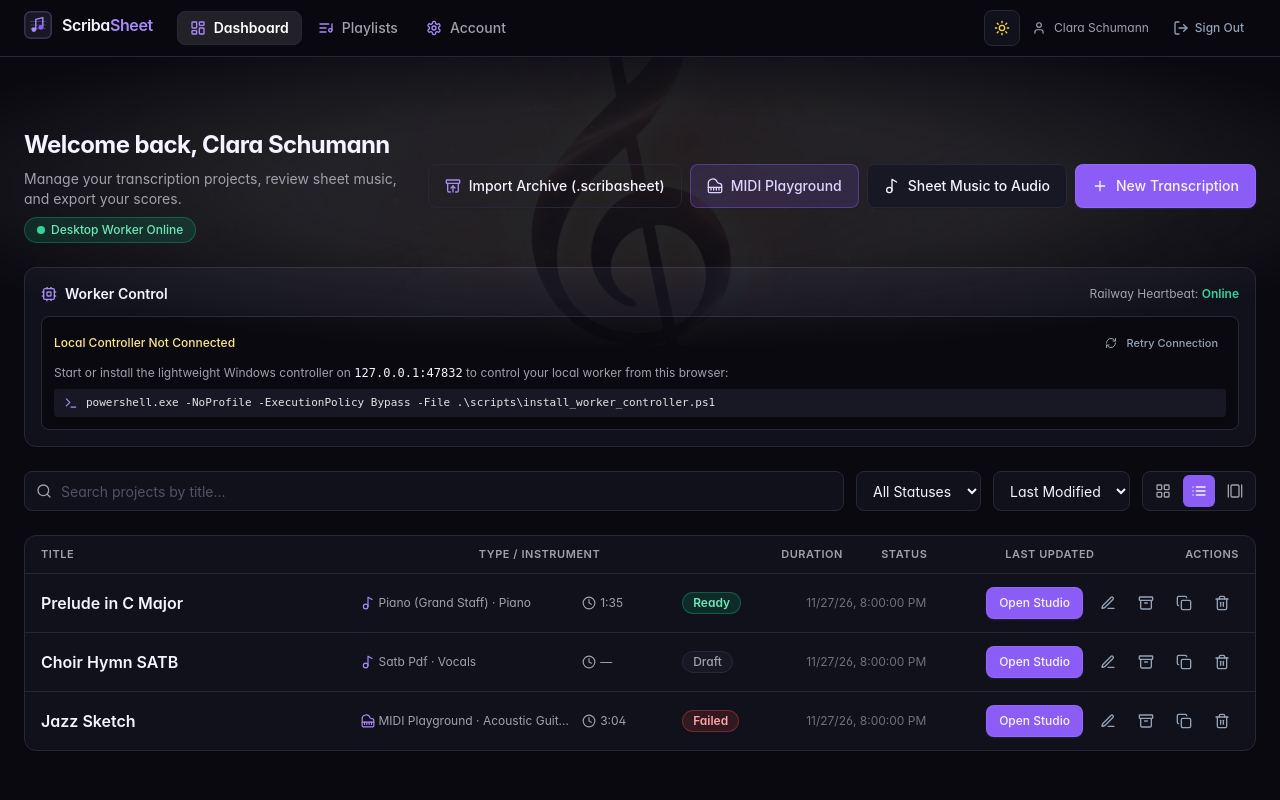
Test case: Dashboard Project View Modes (Grid, List, Carousel) › supports all five project actions consistently across List and Carousel views
Later steps or results of the test are not shown.
Click the button named "Rename project" in the row of "ready" at {"x": 1108, "y": 602}, box [1091,586,1125,620]
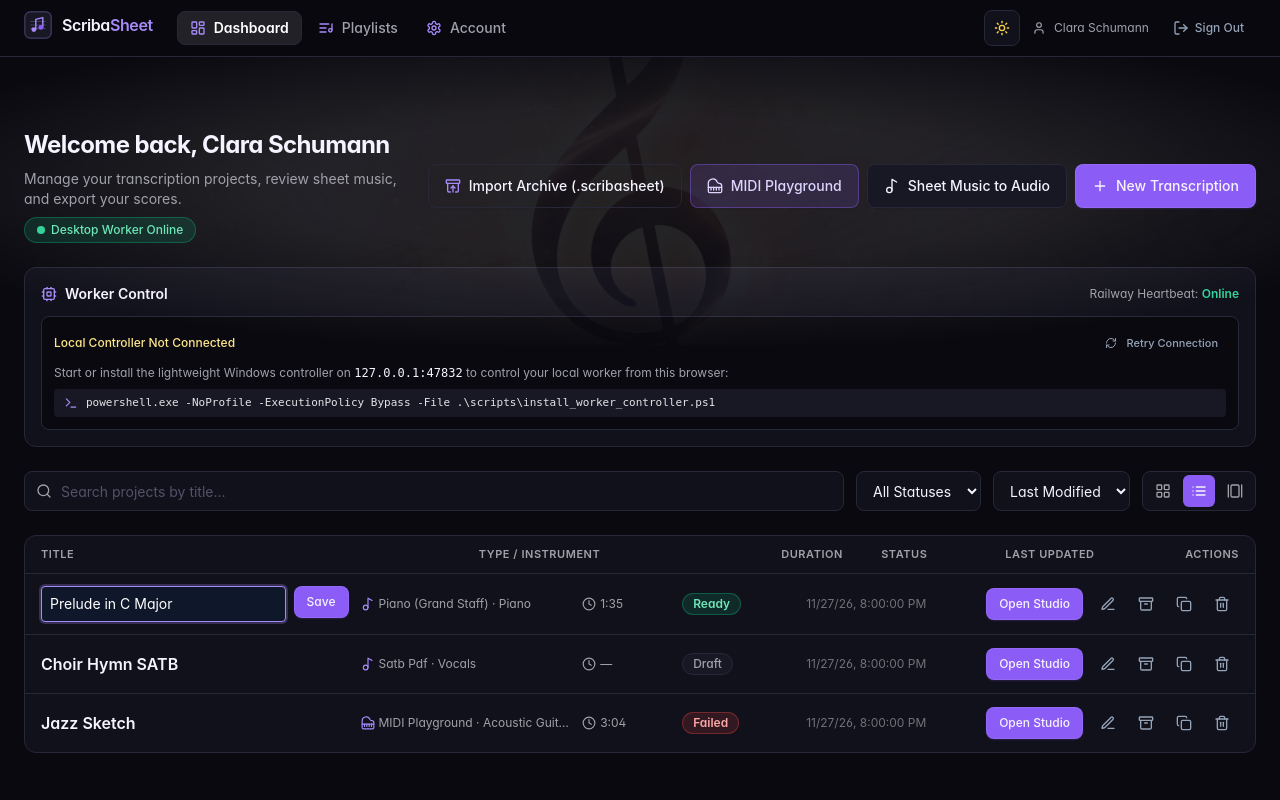
Replace the text in the field showing "Prelude in C Major" with "Prelude Revised" at {"x": 163, "y": 604}, box [41,586,286,622]
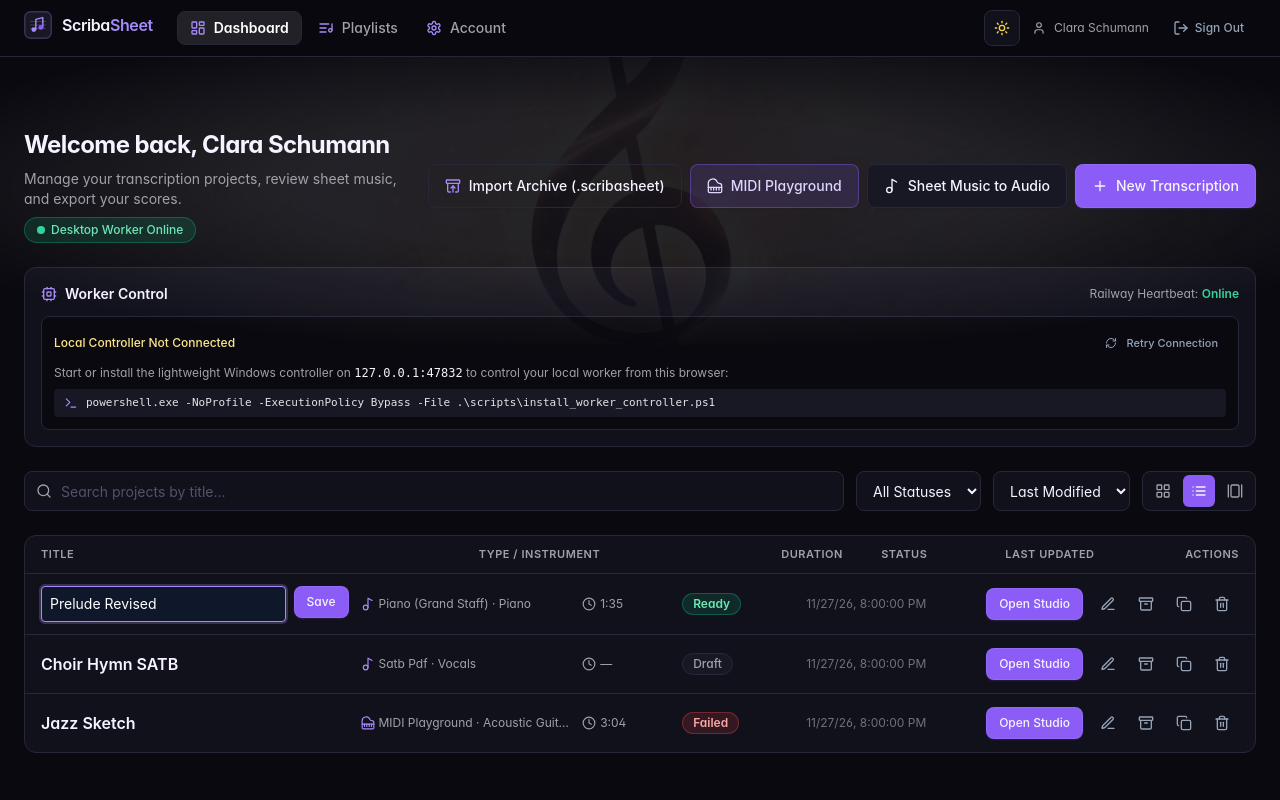
Click the button "Save" at {"x": 321, "y": 602}, box [294,586,348,618]
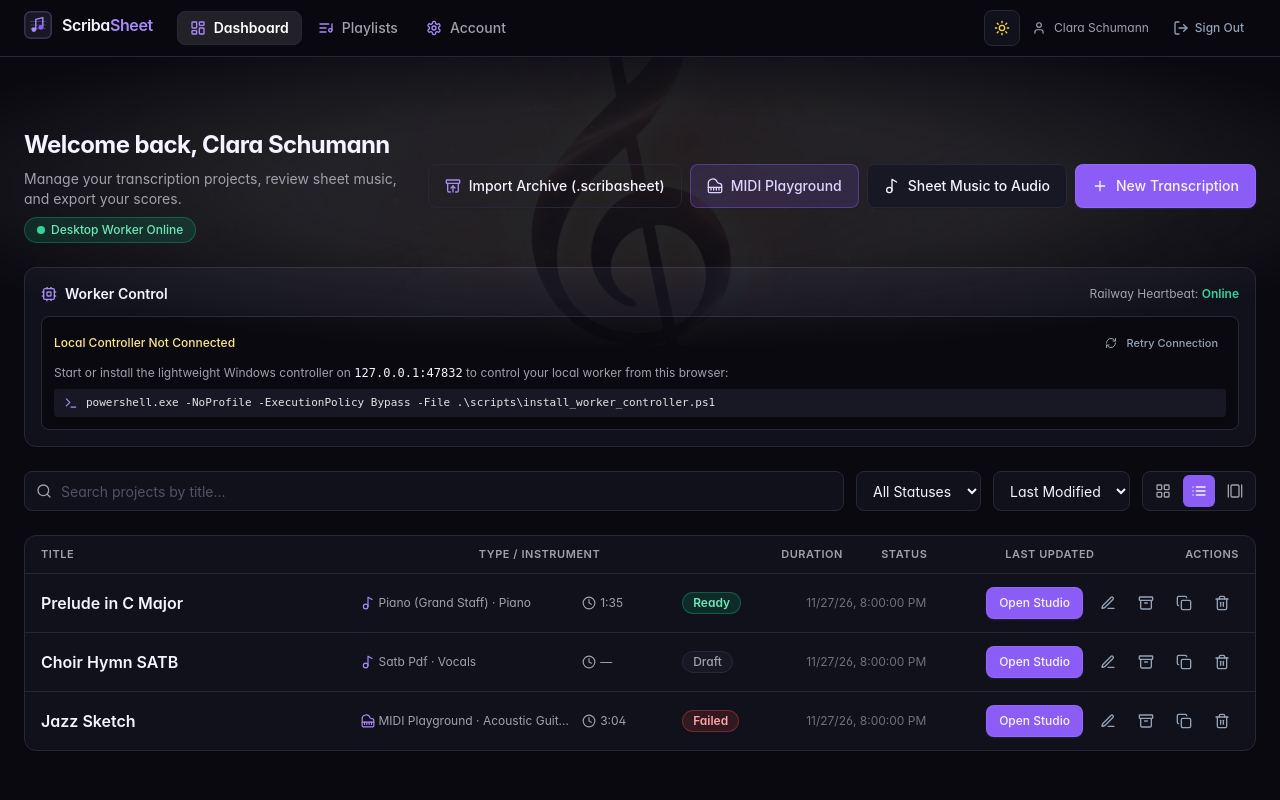
# Archive (.scribasheet) modal opens
Click the button with test id "archive-project-p1" at {"x": 1146, "y": 602}, box [1129,586,1163,620]
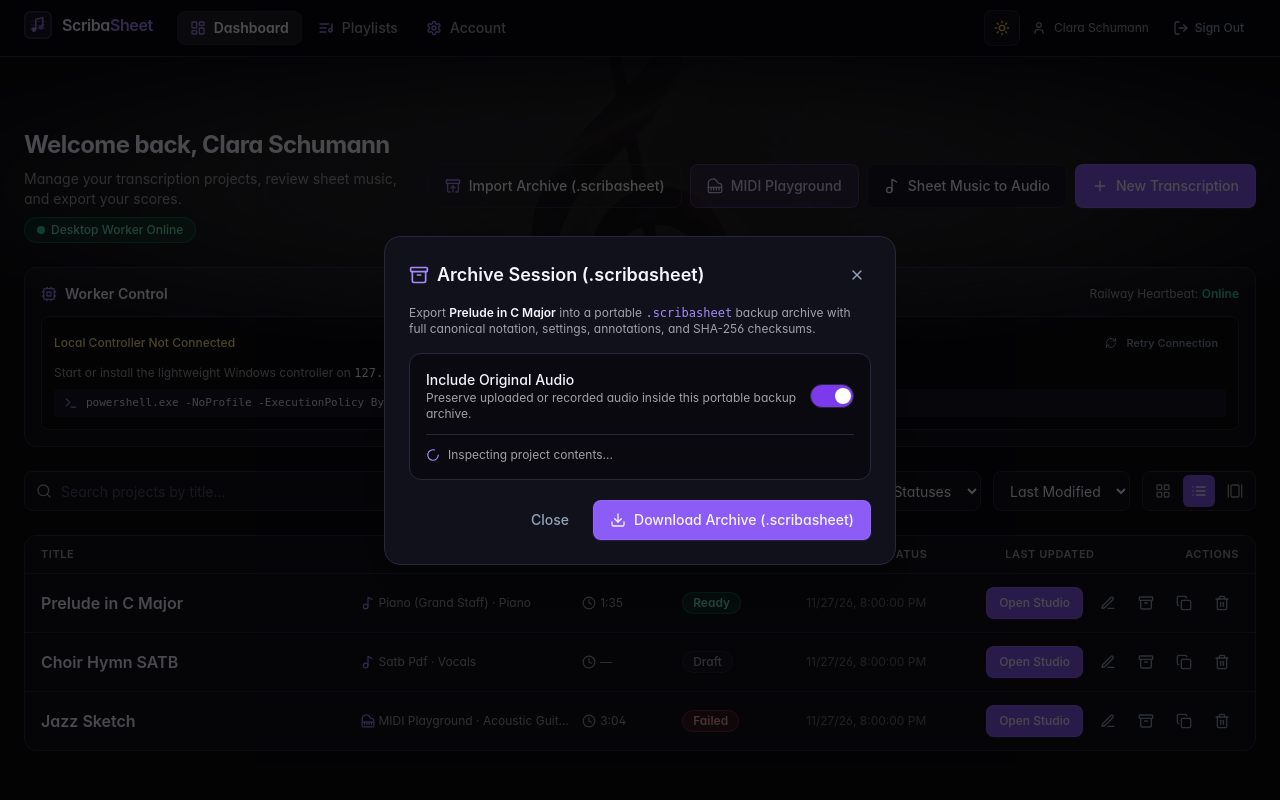
Check: the dialog is shown
Press Escape
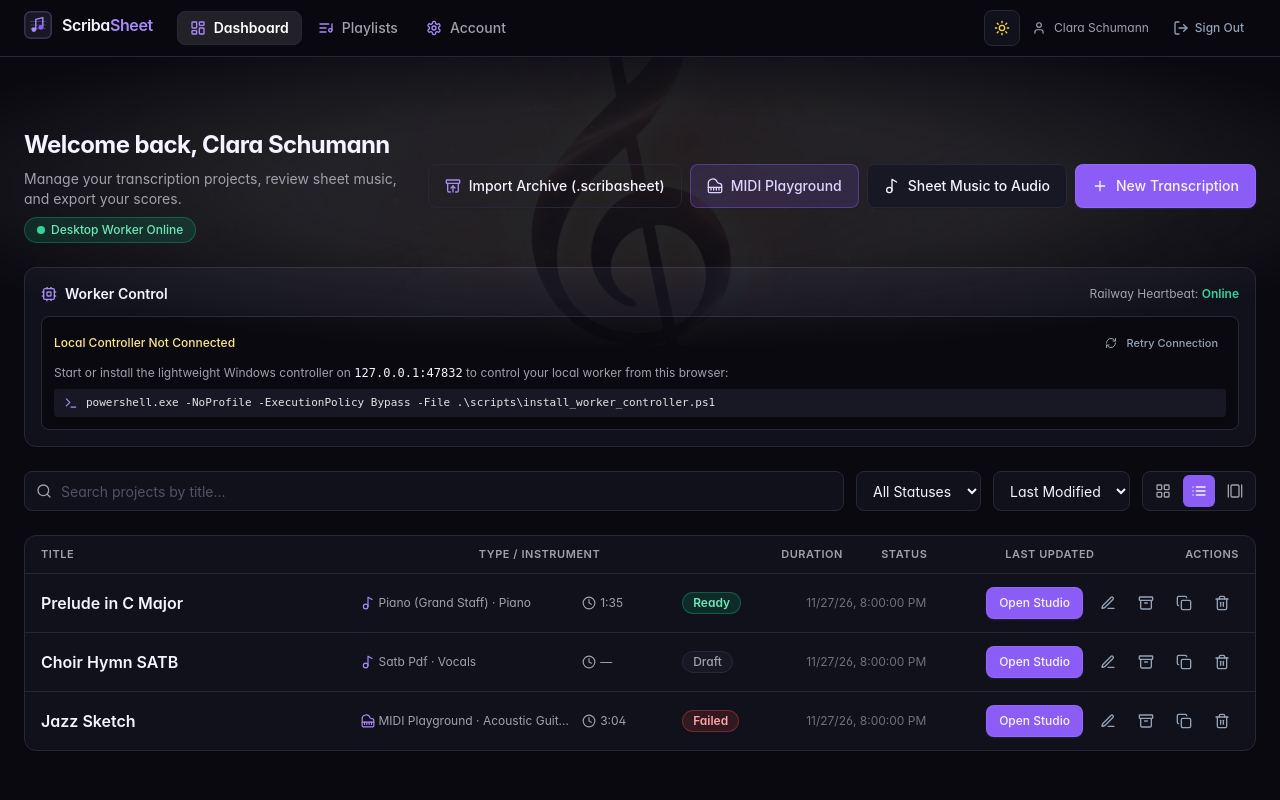
# Duplicate & Delete
Click the button named "Duplicate project" in the row of "ready" at {"x": 1184, "y": 602}, box [1167,586,1201,620]
Click the button named "Delete project" in the row of "ready" at {"x": 1222, "y": 602}, box [1205,586,1239,620]
# Open Studio
Click the button "Open Studio" in the row of "ready" at {"x": 1035, "y": 602}, box [986,586,1083,618]
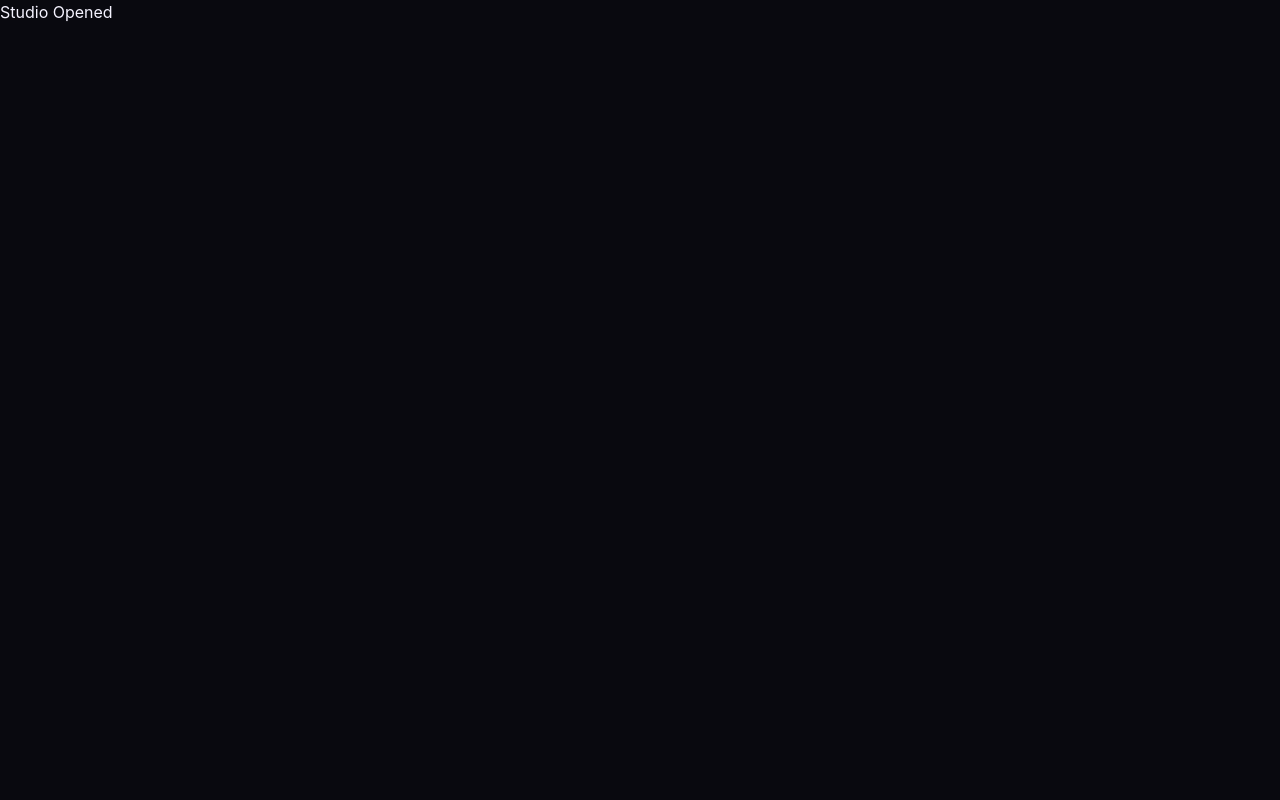
Check: the text "Studio Opened" is shown, box [0,2,113,22]
